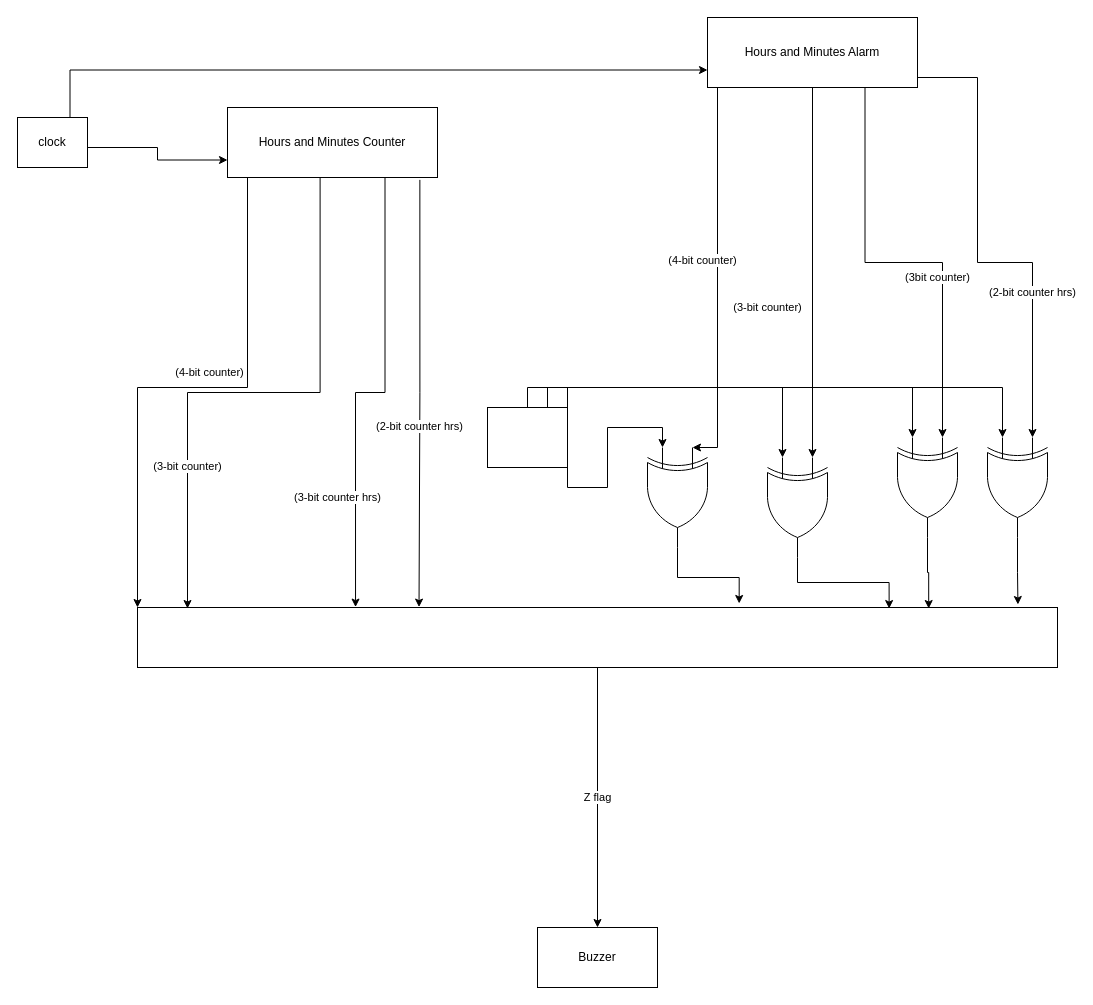
Image size: 1093x1005. Some labels were removed from this diagram. The shapes that lost their labels are listed below. From the top down, each one's centre as x and y in pixels, then its label:
At point (527, 437): "a wire box that gives output of 1".
At point (597, 637): "4- (4,3,2,3) bits adder".
